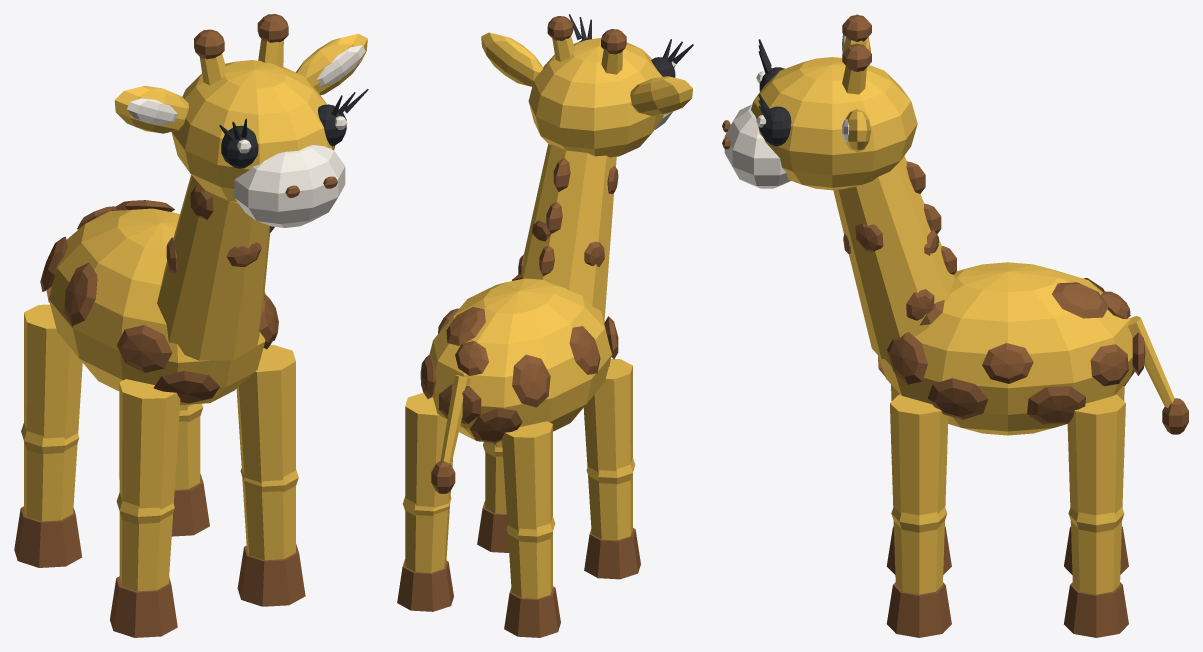
File: giraffe-calf-pet.glb
The picture shows the model from 3 angles, left to right: view 1: azimuth 30°, elevation 25°; view 2: azimuth 150°, elevation 25°; view 3: azimuth 270°, elevation 25°; orthographic projection. The views are drawn at different scales.
Parts seen in each view (by area): view 1: GiraffeCalf; view 2: GiraffeCalf; view 3: GiraffeCalf.
Boxes of the visible parts, x1,y1,x2,y2 form: GiraffeCalf: (14,14,368,637); GiraffeCalf: (397,14,693,637); GiraffeCalf: (722,14,1188,637).
Size of the model in its own units: 1.74 by 4.01 by 3.01.
